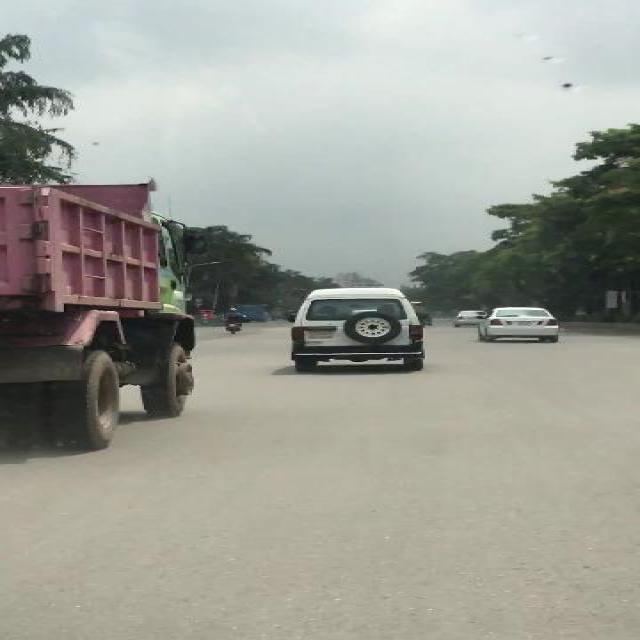bike: (222, 308, 247, 336)
vehicle: (1, 176, 207, 457), (287, 286, 431, 375), (477, 306, 564, 346), (241, 305, 273, 324), (454, 311, 488, 328)
